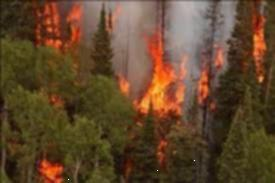fire: (114, 6, 193, 176), (28, 1, 90, 183), (196, 11, 275, 108)
